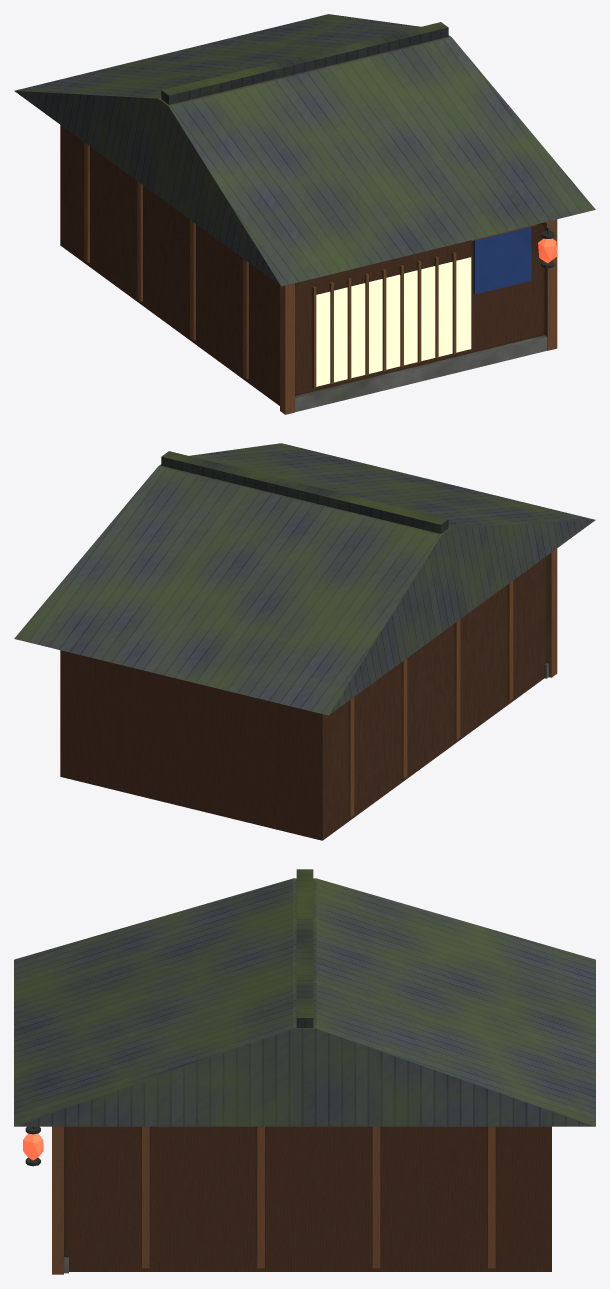
The model's file is machiya_3_tex.glb.
3 renders of one model, top to bottom at view 1: azimuth 30°, elevation 25°; view 2: azimuth 150°, elevation 25°; view 3: azimuth 270°, elevation 25°, orthographic. The views are drawn at different scales.
Visible parts, largest first — view 1: machiya_3; view 2: machiya_3; view 3: machiya_3.
Boxes of the visible parts, x1=… form: machiya_3: x1=14, y1=14, x2=595, y2=414; machiya_3: x1=14, y1=443, x2=595, y2=840; machiya_3: x1=14, y1=869, x2=595, y2=1274.
Size of the model in its own units: 7.2 by 5.2 by 10.6.
Materials: 8 (6 with a texture image).
